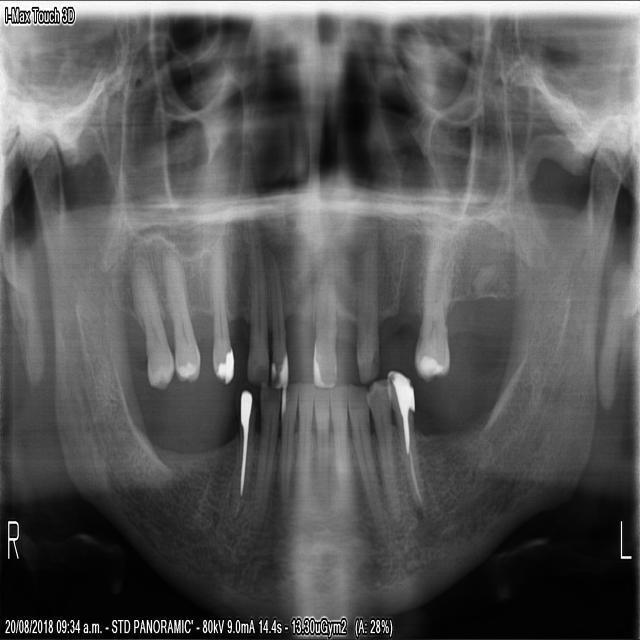LCD: (345, 379, 375, 485)
LID: (328, 384, 353, 474), (312, 384, 330, 468)
LIU: (311, 266, 338, 386)
LMU: (412, 228, 455, 380)
LPMD: (383, 366, 428, 515), (365, 376, 402, 508)
LPMU: (354, 227, 379, 385)
RCD: (252, 381, 280, 508)
RCU: (245, 241, 269, 386)
RID: (278, 378, 297, 483), (295, 377, 313, 476)
RIU: (265, 260, 288, 391)
RMU: (126, 248, 173, 391), (158, 249, 202, 386)
RPMD: (234, 386, 255, 498)
RPMU: (208, 256, 234, 384)
